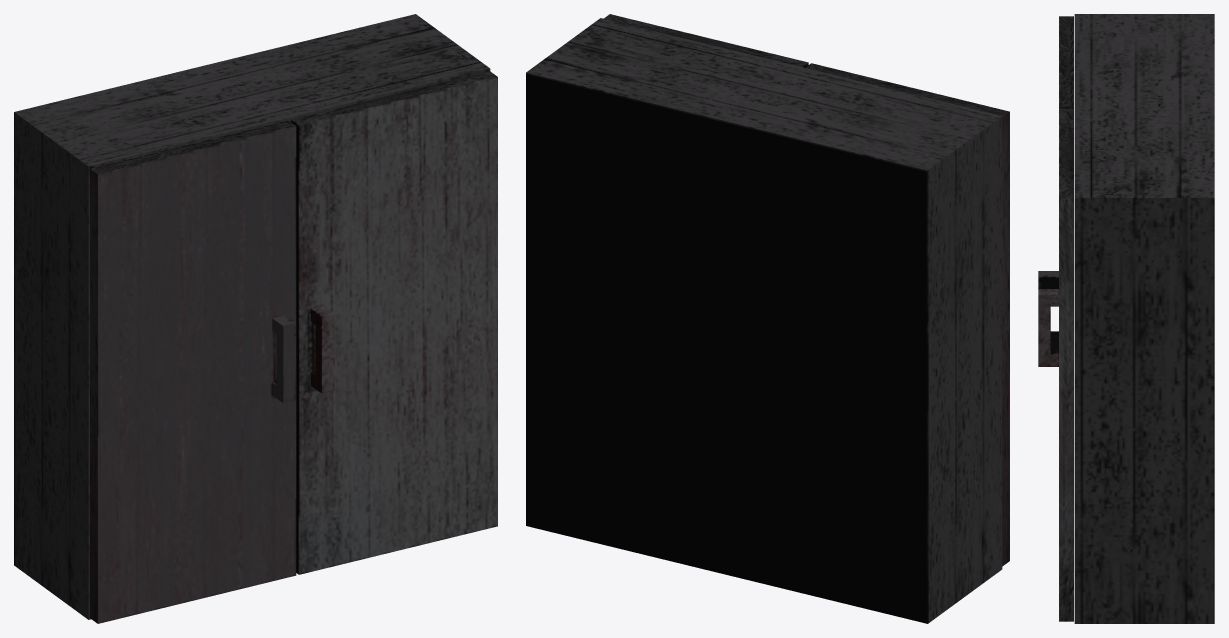
The model's file is LeverFixer.fbx.
The picture shows the model from 3 angles, left to right: view 1: azimuth 30°, elevation 25°; view 2: azimuth 150°, elevation 25°; view 3: azimuth 270°, elevation 25°; orthographic projection. The views are drawn at different scales.
Parts seen in each view (by area): view 1: LeverFixerLeftDoor, LeverFixerRightDoor, LeverFixer; view 2: LeverFixer, LeverFixerLeftDoor, LeverFixerRightDoor; view 3: LeverFixer, LeverFixerRightDoor, LeverFixerLeftDoor.
Part boxes in pixels (x1,y1,x2,y2): LeverFixerLeftDoor: [90, 120, 296, 623]; LeverFixerRightDoor: [291, 71, 497, 574]; LeverFixer: [14, 14, 490, 619]; LeverFixer: [526, 18, 1002, 623]; LeverFixerLeftDoor: [805, 63, 1009, 566]; LeverFixerRightDoor: [604, 14, 808, 67]; LeverFixer: [1074, 14, 1214, 623]; LeverFixerRightDoor: [1038, 108, 1073, 621]; LeverFixerLeftDoor: [1038, 16, 1073, 349].
Size of the model in its own units: 1.13 by 1.22 by 0.4592.
